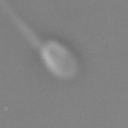normal: (1, 3, 40, 49)
